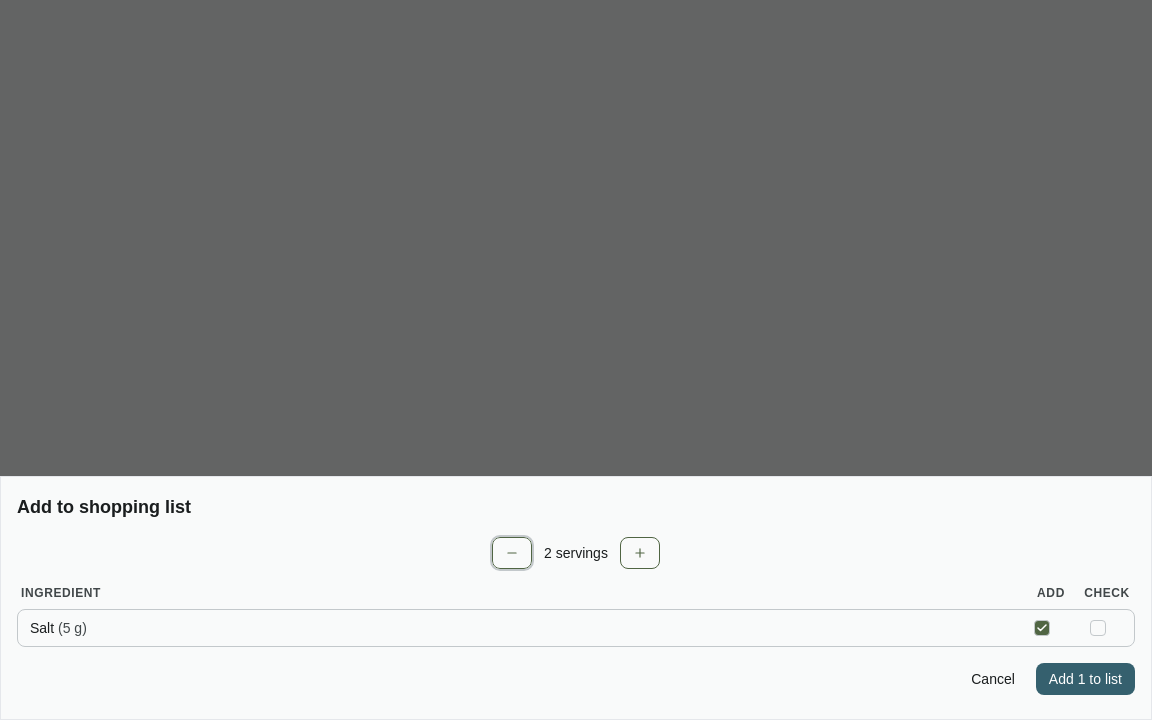
it: RecipeAddToListSheet — nothing to add › disables the confirm once the last row is toggled off
Expected: the number of elements with test id "recipe-add-review-row" is 1, [17, 609, 1135, 647]
Expected: the button with test id "recipe-add-to-list-confirm" is enabled, [1036, 663, 1135, 695]
Click the 1st checkbox at point(1042, 628), box [1034, 620, 1050, 636]
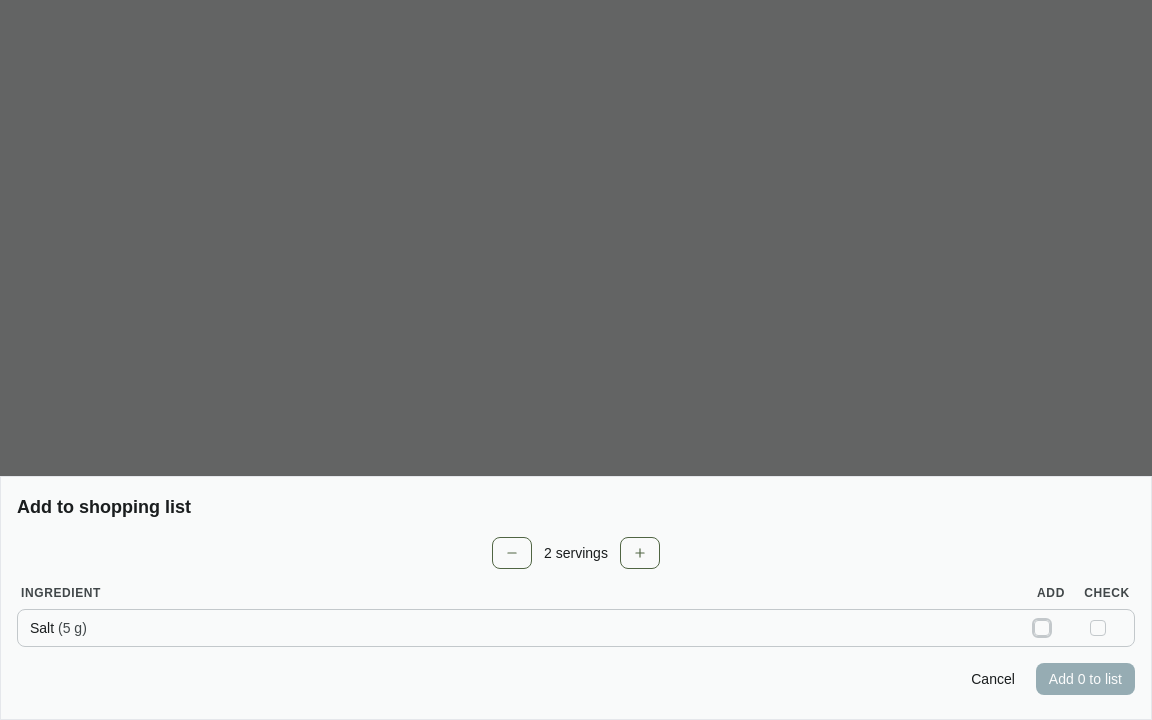
Expected: the number of elements with test id "recipe-add-review-row" is 1, [17, 609, 1135, 647]
Expected: the button with test id "recipe-add-to-list-confirm" is disabled, [1036, 663, 1135, 695]
